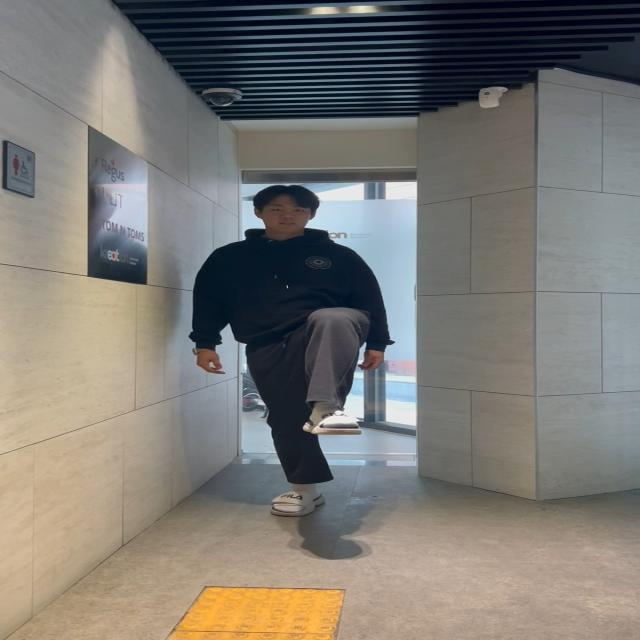knee: (303, 304, 385, 444)
